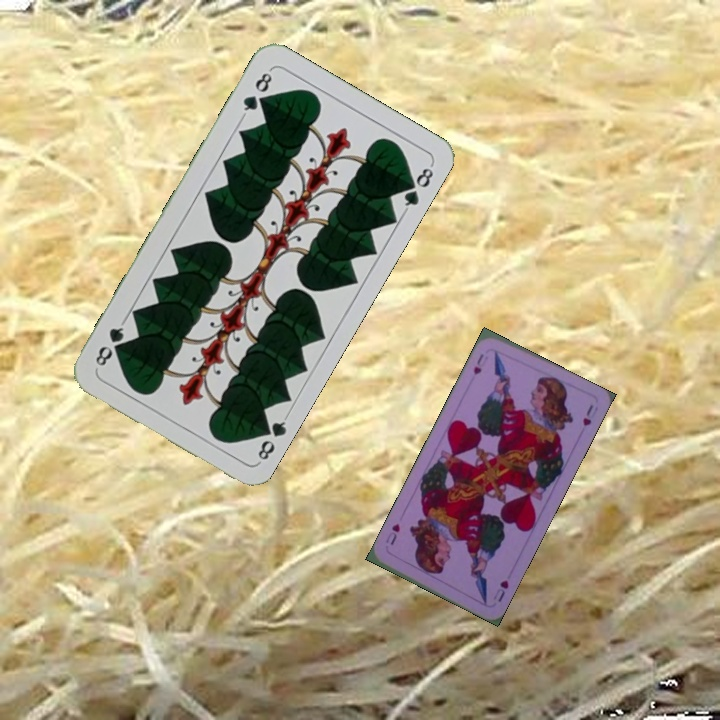G8: (253, 412, 291, 465), (238, 66, 275, 120)
HU: (489, 576, 511, 605), (469, 350, 486, 378)
